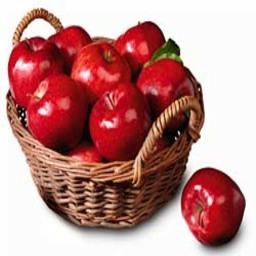apple: (178, 166, 244, 247), (85, 88, 154, 165), (26, 74, 90, 154), (7, 36, 62, 107), (69, 41, 131, 102), (137, 59, 189, 124), (115, 21, 167, 71)
